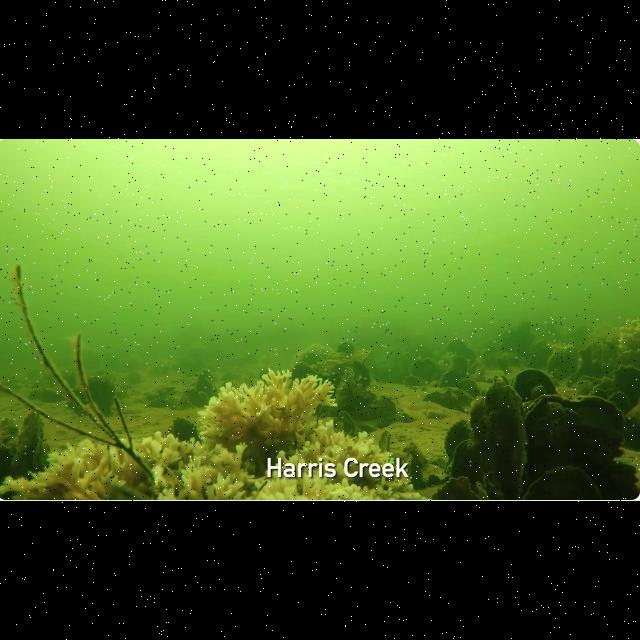Oyster-Closed: (522, 392, 624, 463), (469, 400, 533, 488), (525, 464, 605, 502), (15, 409, 53, 469), (507, 367, 559, 401), (84, 374, 120, 420), (450, 438, 482, 480), (166, 418, 202, 448), (434, 478, 478, 502), (486, 382, 522, 410), (446, 418, 474, 454), (0, 414, 20, 464), (332, 368, 356, 406), (550, 351, 584, 375), (532, 340, 556, 374), (344, 376, 372, 404), (614, 366, 640, 396), (143, 393, 175, 417), (286, 361, 318, 385), (332, 412, 360, 438), (28, 387, 68, 405), (198, 378, 222, 408), (437, 390, 468, 412), (456, 377, 486, 399), (412, 358, 442, 379), (444, 336, 470, 360), (308, 358, 342, 376), (172, 390, 194, 416), (368, 395, 394, 417), (146, 384, 176, 402), (436, 369, 462, 389), (614, 347, 640, 367), (625, 395, 640, 429), (404, 374, 428, 394), (181, 386, 203, 406), (347, 347, 371, 365), (609, 391, 631, 409), (587, 387, 611, 401), (528, 384, 548, 400), (574, 380, 594, 396), (424, 374, 440, 392), (422, 389, 442, 403), (596, 377, 616, 391), (328, 351, 352, 362), (197, 368, 215, 382), (126, 369, 144, 383), (196, 392, 210, 408), (548, 368, 564, 382)
Oyster-Open: (402, 444, 434, 488), (379, 431, 395, 455)
